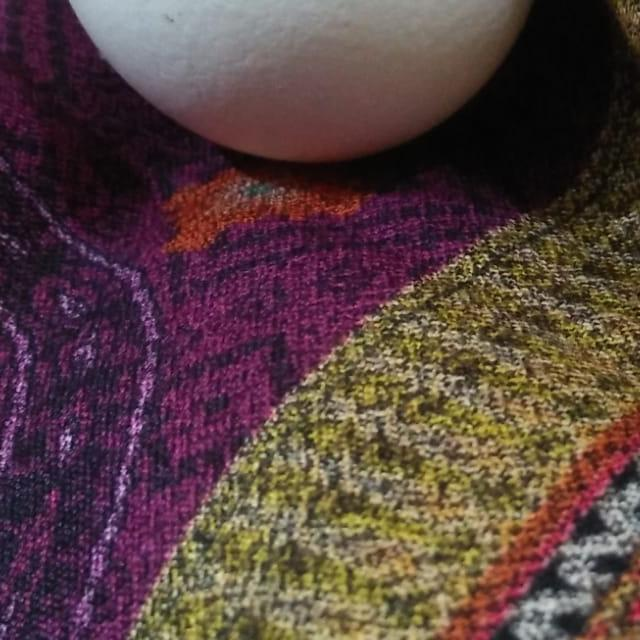egg: (31, 0, 551, 166)
